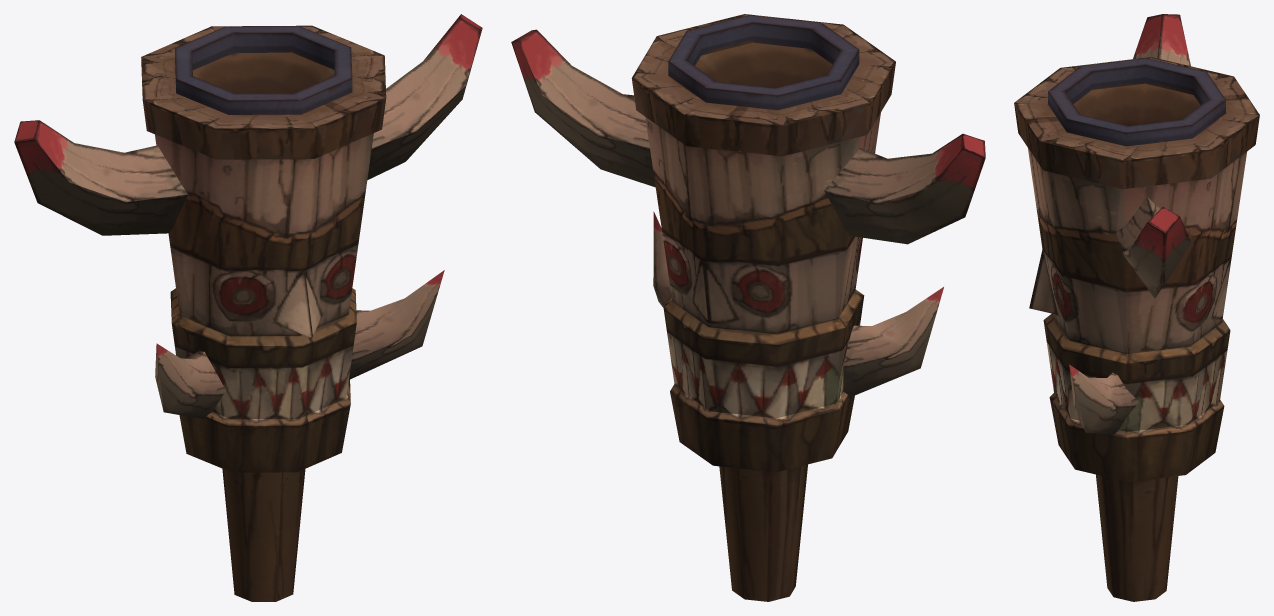
The model's file is 2_GBL_HuoJu_01.FBX.
3 renders of one model, left to right at view 1: azimuth 30°, elevation 25°; view 2: azimuth 150°, elevation 25°; view 3: azimuth 270°, elevation 25°, orthographic. The views are drawn at different scales.
Visible parts, largest first — view 1: 2_GBL_HuoJu_01; view 2: 2_GBL_HuoJu_01; view 3: 2_GBL_HuoJu_01.
Boxes of the visible parts, x1,y1,x2,y2 form: 2_GBL_HuoJu_01: (14,14,482,601); 2_GBL_HuoJu_01: (511,14,985,601); 2_GBL_HuoJu_01: (1014,14,1259,601).
Bounding box in the file's own units: 467 × 502 × 226.
1 material, 1 textured.
